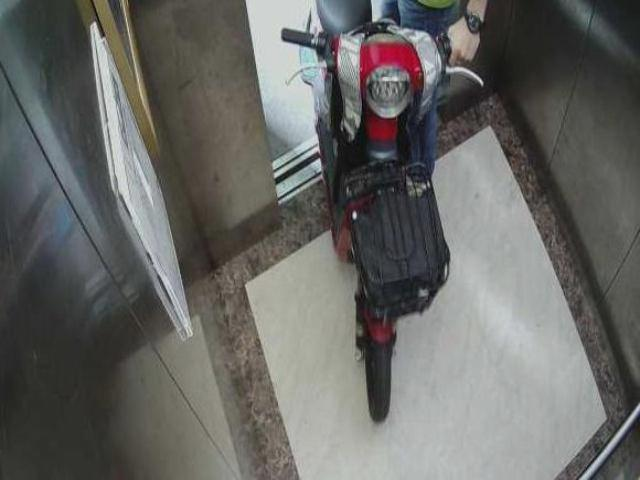emotor: (282, 1, 473, 415)
